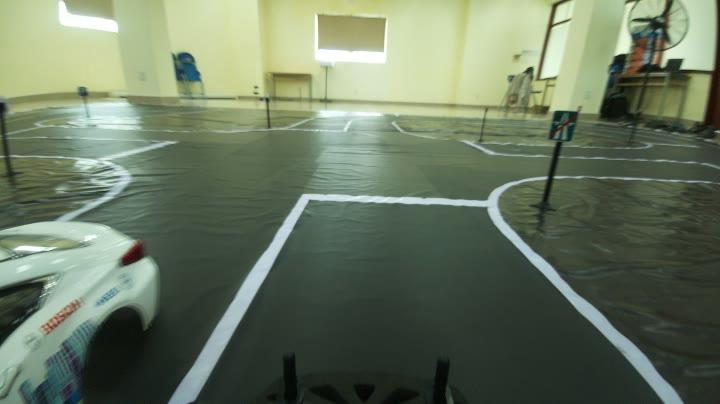car: (1, 208, 159, 403)
highway_exit: (542, 104, 583, 150)
